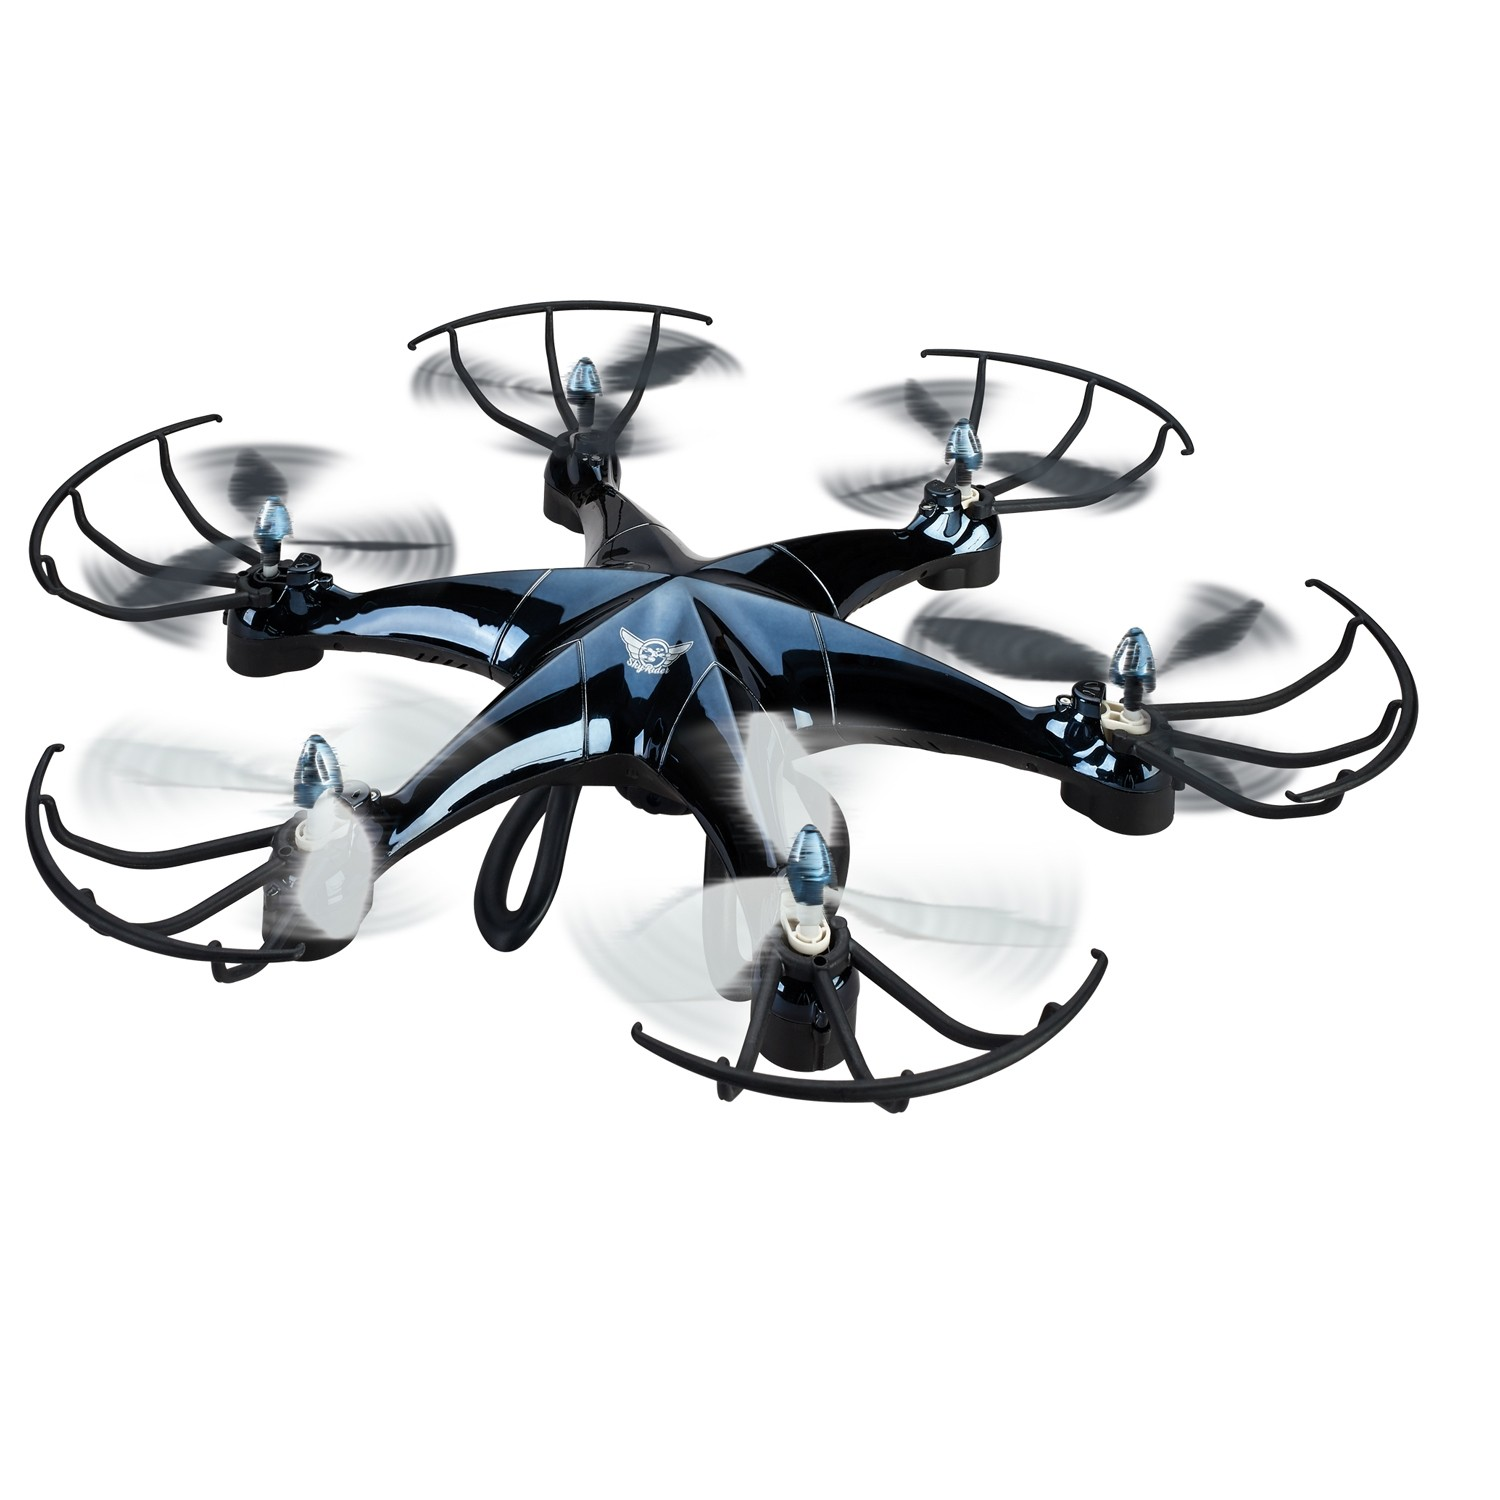drone: (21, 290, 1434, 1128)
